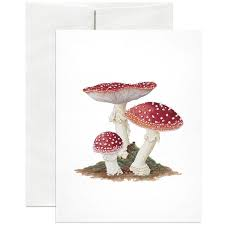Amanita muscaria: (78, 80, 159, 159), (121, 101, 185, 177), (83, 124, 125, 180)
